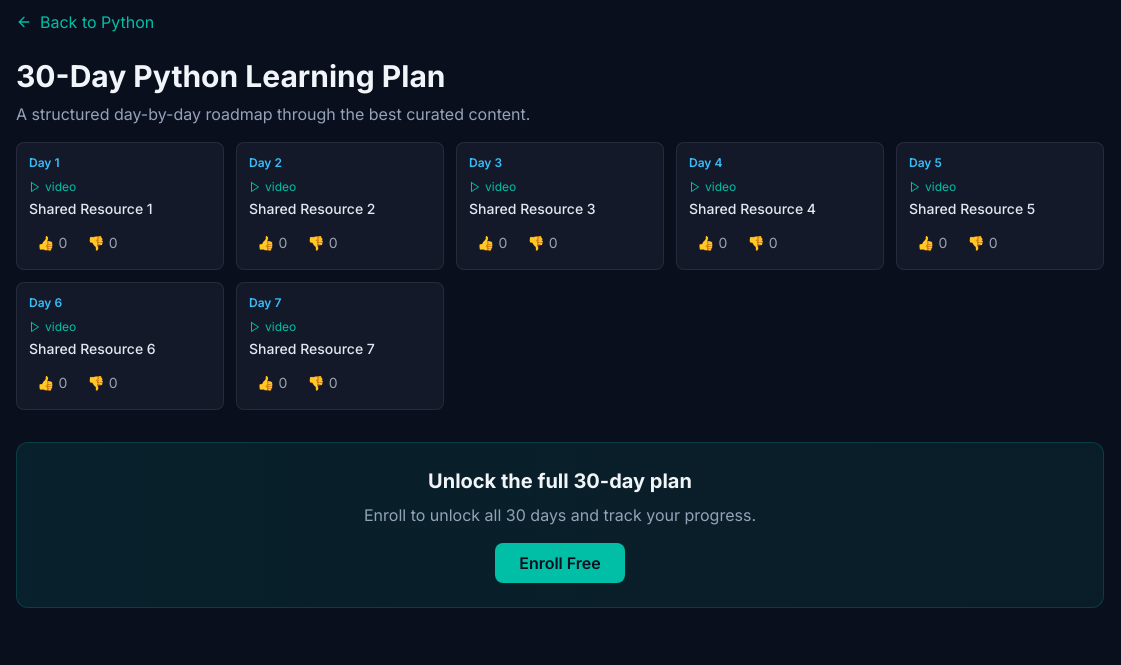
Test: LearningPlanPage › non-enrolled user sees shared plan › shows a helpful error when a free user hits the active plan limit while enrolling
Step 1. Click the button "Enroll Free" → (560, 563), box [495,543,625,583]
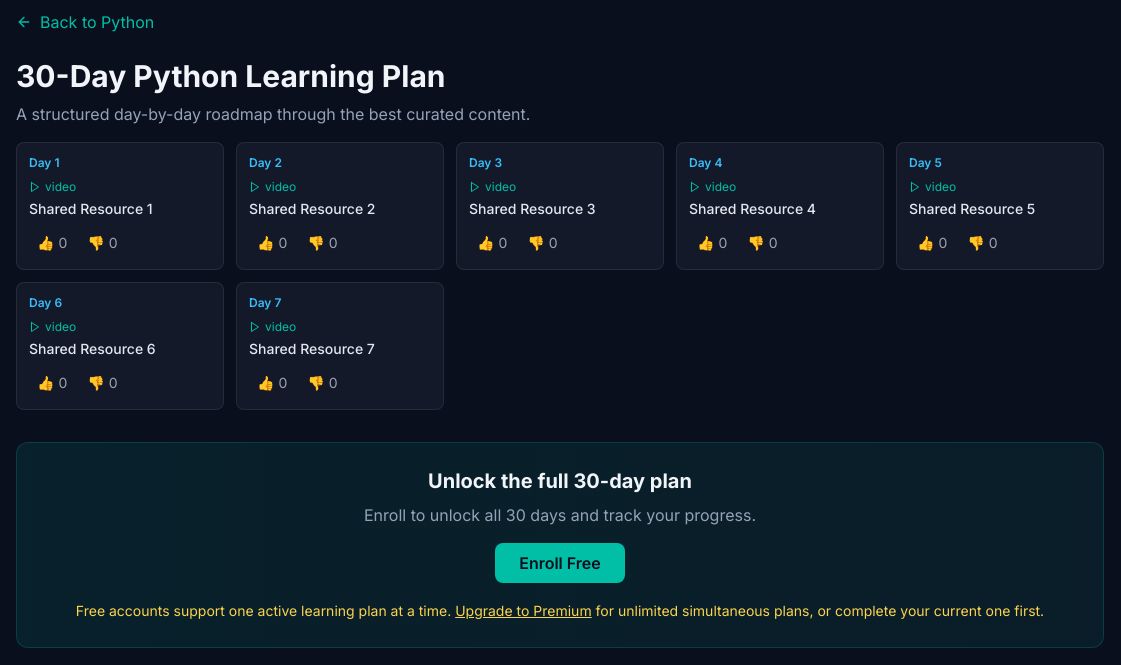
Expected: the text "Free accounts support one active learning plan at a time" is shown, [76,602,451,619]
